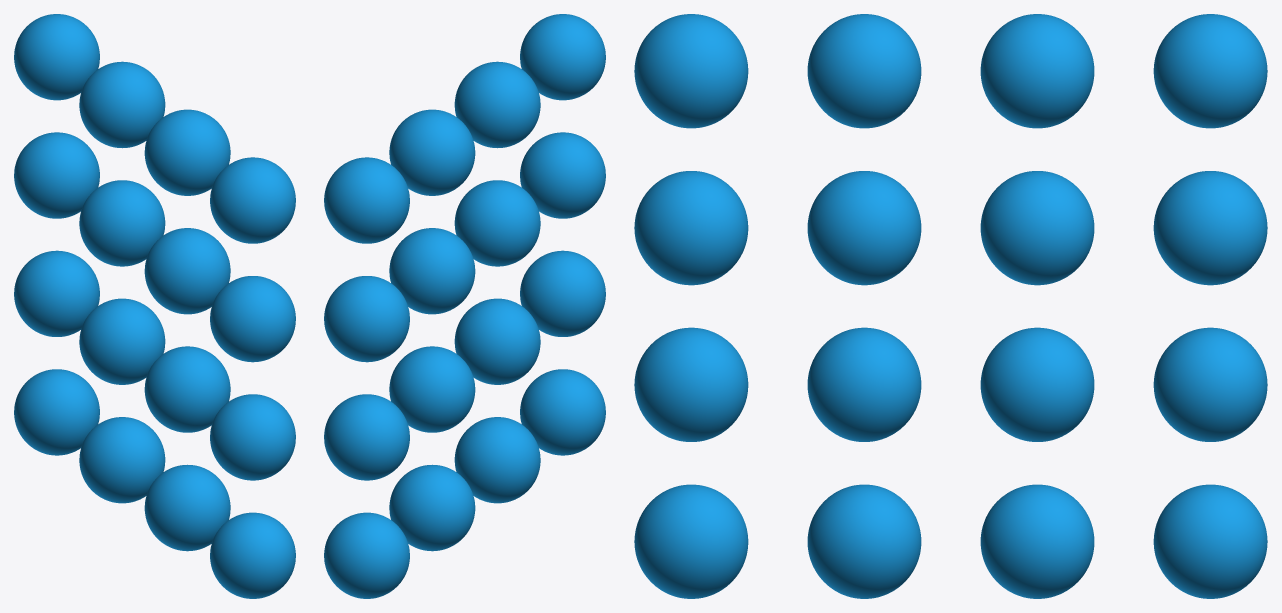
3 views of the same model, side by side, from view 1: azimuth 30°, elevation 25°; view 2: azimuth 150°, elevation 25°; view 3: azimuth 270°, elevation 25° (orthographic). The views are drawn at different scales.
Visible parts, largest first — view 1: Sphere.012, Sphere.006, Sphere, Sphere.003, Sphere.014, Sphere.005, Sphere.001, Sphere.004, Sphere.007, Sphere.010, Sphere.008, Sphere.009 (+4 smaller); view 2: Sphere.015, Sphere.011, Sphere.009, Sphere.010, Sphere.013, Sphere.004, Sphere.002, Sphere.003, Sphere.005, Sphere.008, Sphere.007, Sphere (+4 smaller); view 3: Sphere.004, Sphere.005, Sphere.007, Sphere.008, Sphere.003, Sphere.006, Sphere.010, Sphere.011, Sphere.001, Sphere.002, Sphere.013, Sphere.014 (+4 smaller).
Boxes of the visible parts, x1,y1,x2,y2 form: Sphere.012: (210, 512, 295, 598); Sphere.006: (210, 394, 295, 480); Sphere: (210, 157, 295, 243); Sphere.003: (210, 276, 295, 362); Sphere.014: (79, 417, 165, 503); Sphere.005: (79, 180, 165, 266); Sphere.001: (144, 109, 230, 195); Sphere.004: (144, 228, 230, 314); Sphere.007: (144, 346, 230, 432); Sphere.010: (14, 132, 99, 218); Sphere.008: (79, 298, 165, 384); Sphere.009: (14, 14, 99, 100); Sphere.015: (324, 512, 409, 598); Sphere.011: (324, 394, 409, 480); Sphere.009: (324, 157, 409, 243); Sphere.010: (324, 276, 409, 362); Sphere.013: (454, 417, 540, 503); Sphere.004: (454, 180, 540, 266); Sphere.002: (389, 109, 475, 195); Sphere.003: (520, 132, 605, 218); Sphere.005: (389, 228, 475, 314); Sphere.008: (389, 346, 475, 432); Sphere.007: (454, 298, 540, 384); Sphere: (520, 14, 605, 100); Sphere.004: (807, 171, 921, 285); Sphere.005: (980, 171, 1094, 285); Sphere.007: (807, 327, 921, 441); Sphere.008: (980, 327, 1094, 441); Sphere.003: (634, 171, 748, 285); Sphere.006: (634, 327, 748, 441); Sphere.010: (1153, 171, 1267, 285); Sphere.011: (1153, 327, 1267, 441); Sphere.001: (807, 14, 921, 128); Sphere.002: (980, 14, 1094, 128); Sphere.013: (807, 484, 921, 598); Sphere.014: (980, 484, 1094, 598).
Size of the model in its own units: 1.97 by 11 by 10.97.
